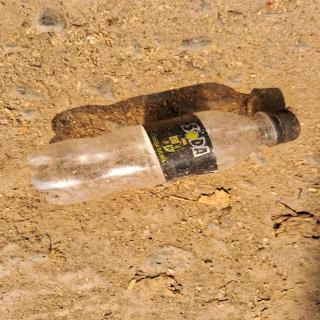Plastic-bottle: (20, 63, 308, 235)
